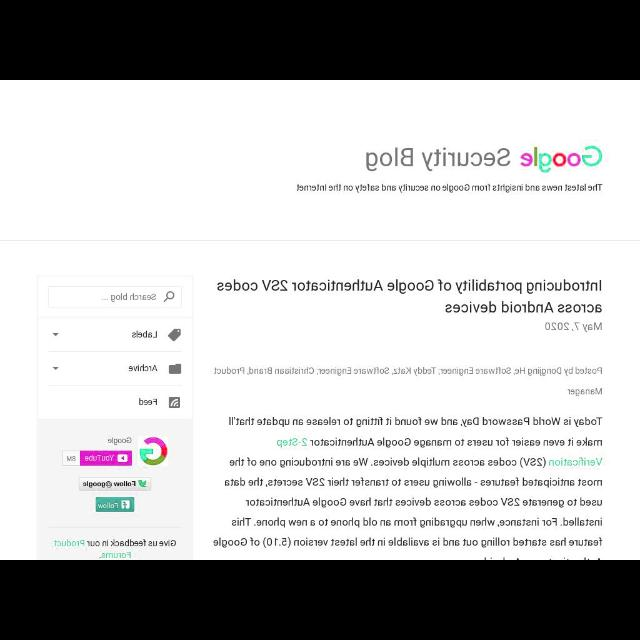icon: (167, 328, 181, 342), (168, 364, 182, 374), (168, 398, 180, 408), (163, 292, 174, 302), (52, 334, 58, 336), (54, 366, 58, 369)
image: (520, 146, 602, 172), (140, 438, 167, 467), (117, 454, 127, 462), (121, 500, 129, 508), (138, 480, 146, 488)
input: (48, 287, 180, 307)
spinner: (38, 318, 192, 352), (38, 352, 192, 386)
text: (213, 416, 603, 548), (216, 280, 602, 312), (213, 367, 602, 397), (366, 148, 510, 172), (296, 184, 602, 192), (54, 540, 176, 558), (544, 322, 602, 332), (102, 292, 156, 302), (83, 482, 135, 488), (129, 364, 157, 372), (132, 330, 158, 338), (108, 437, 132, 445), (85, 455, 114, 461), (139, 398, 157, 406), (98, 503, 118, 509), (66, 456, 76, 462)
textbutton: (62, 450, 132, 466), (79, 478, 151, 490), (96, 498, 134, 512)
